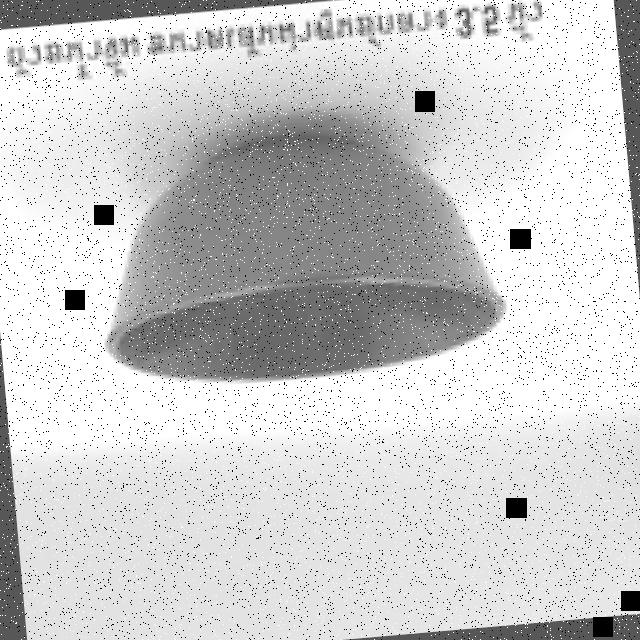plastic_box: (87, 102, 510, 391)
